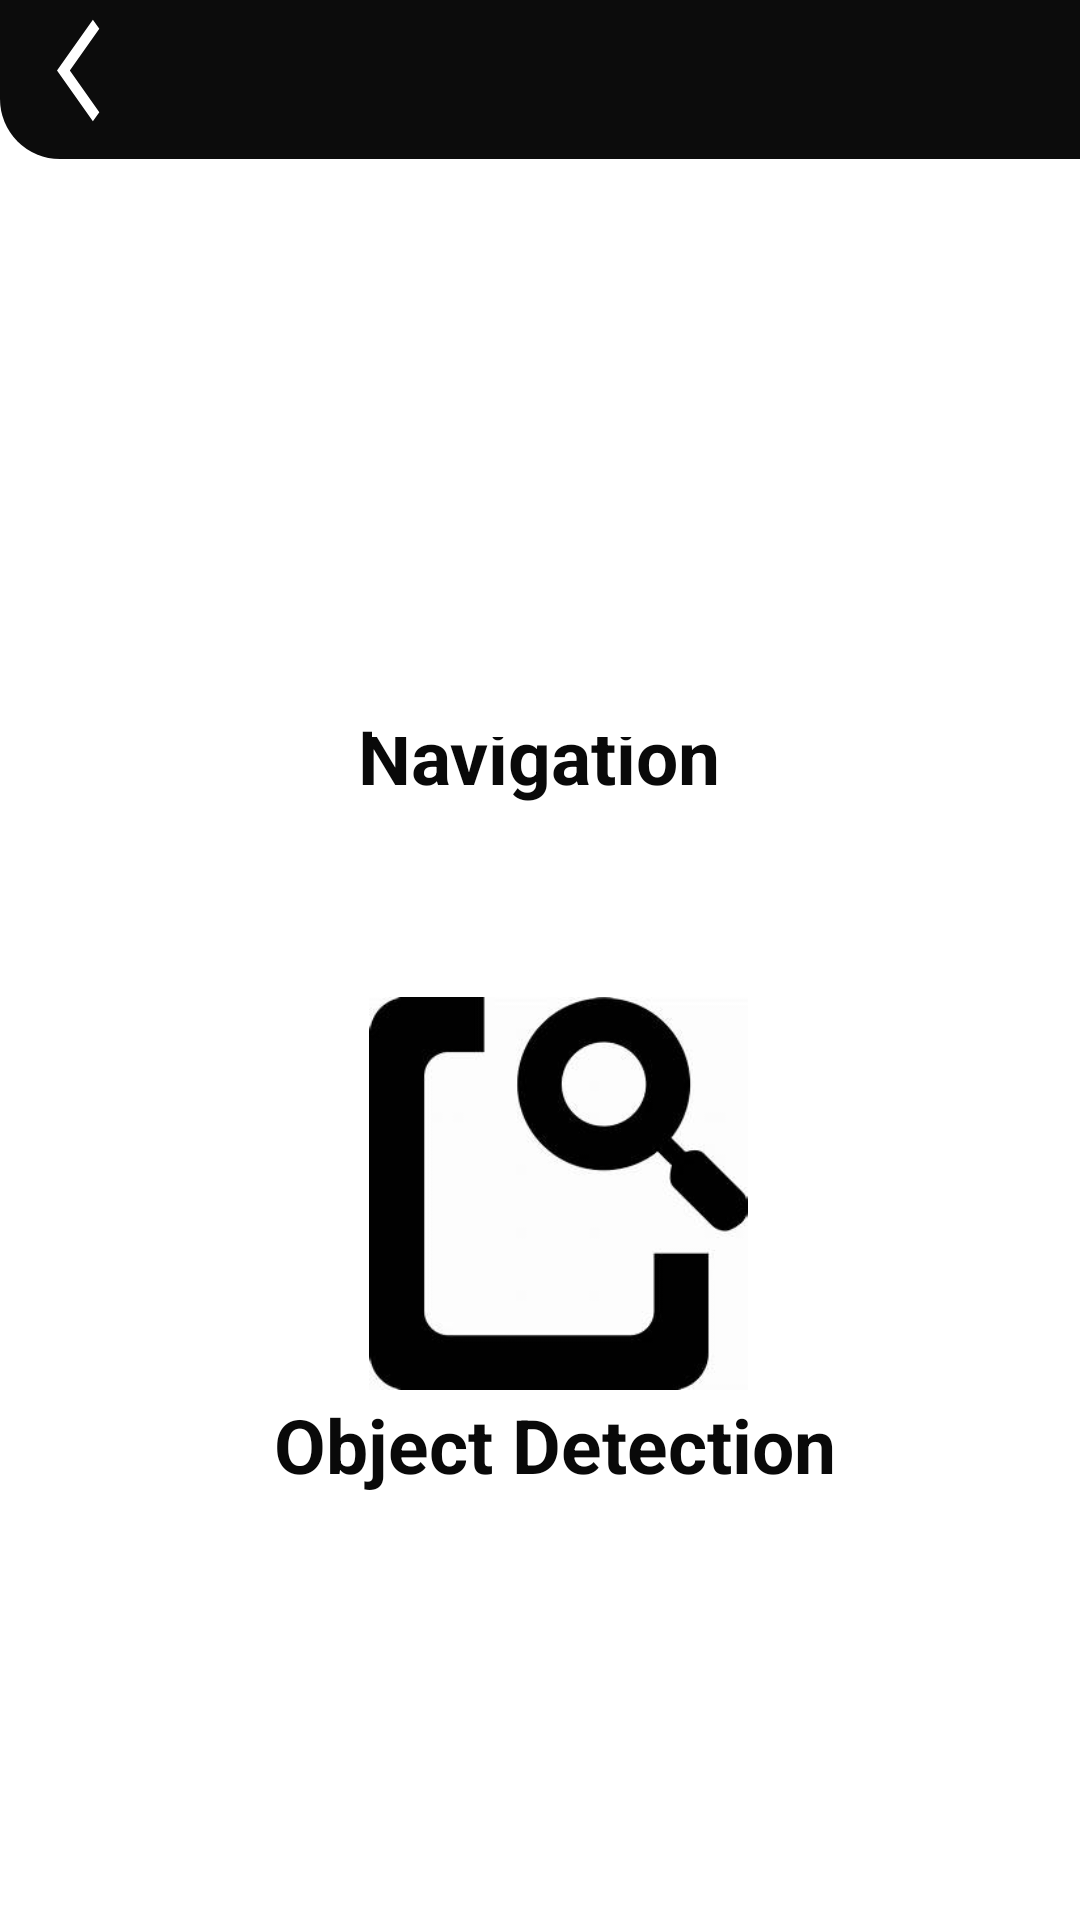

Point at icon controls on the screen. Image size 1080 × 1920, points as (x=x, y=y).
arrow back: (x=78, y=70)
